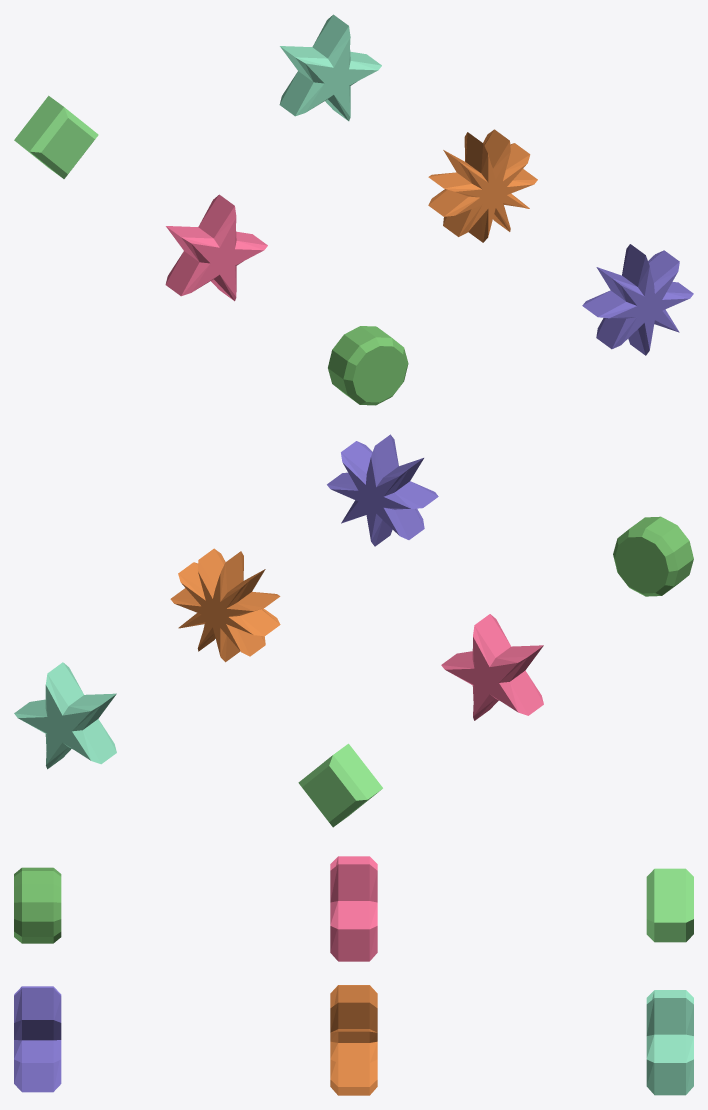
File: phong_bumped_mats_3_LinearExtrusionTest_2023-06-04-21-23-01.gltf
The picture shows the model from 3 angles, top to bottom: view 1: azimuth 30°, elevation 25°; view 2: azimuth 150°, elevation 25°; view 3: azimuth 270°, elevation 25°; orthographic projection.
Size of the model in its own units: 265 by 71.31 by 430.
